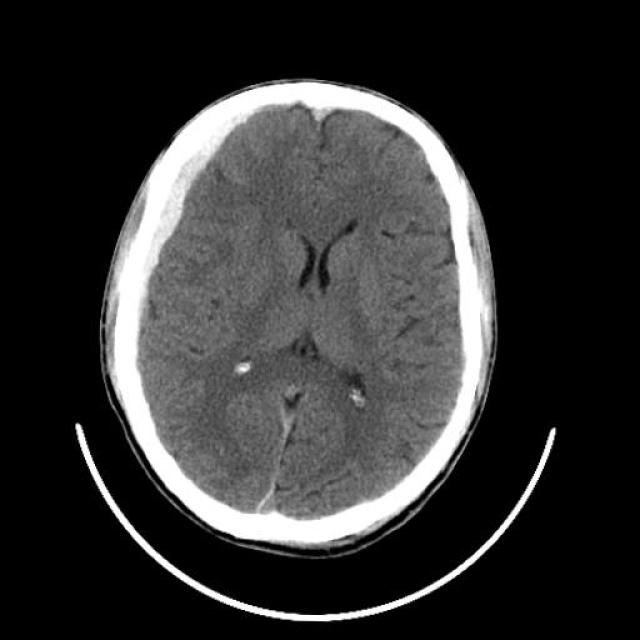Subdural: (105, 92, 276, 318)
